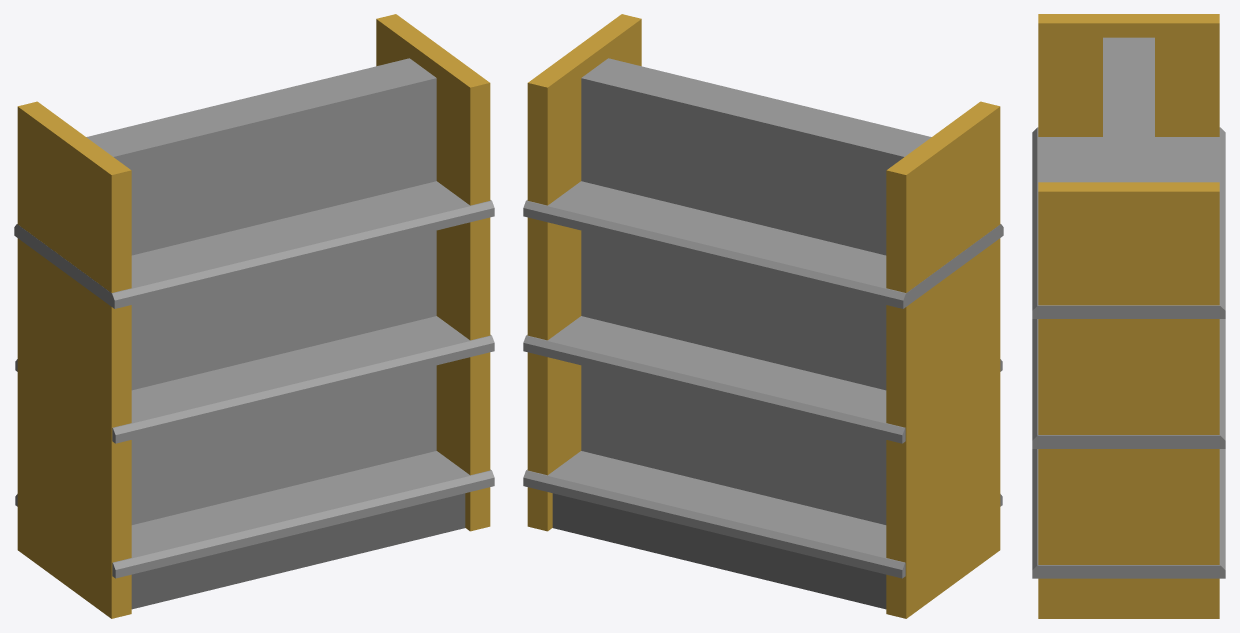
Rendered from Shelf3.fbx.
3 renders of one model, left to right at view 1: azimuth 30°, elevation 25°; view 2: azimuth 150°, elevation 25°; view 3: azimuth 270°, elevation 25°, orthographic. The views are drawn at different scales.
Parts seen in each view (by area): view 1: Base.001; view 2: Base.001; view 3: Base.001.
Part boxes in pixels (x1,y1,x2,y2): Base.001: (14, 14, 494, 618); Base.001: (523, 14, 1003, 618); Base.001: (1032, 14, 1225, 618).
Bounding box in the file's own units: 278 × 311 × 127.
